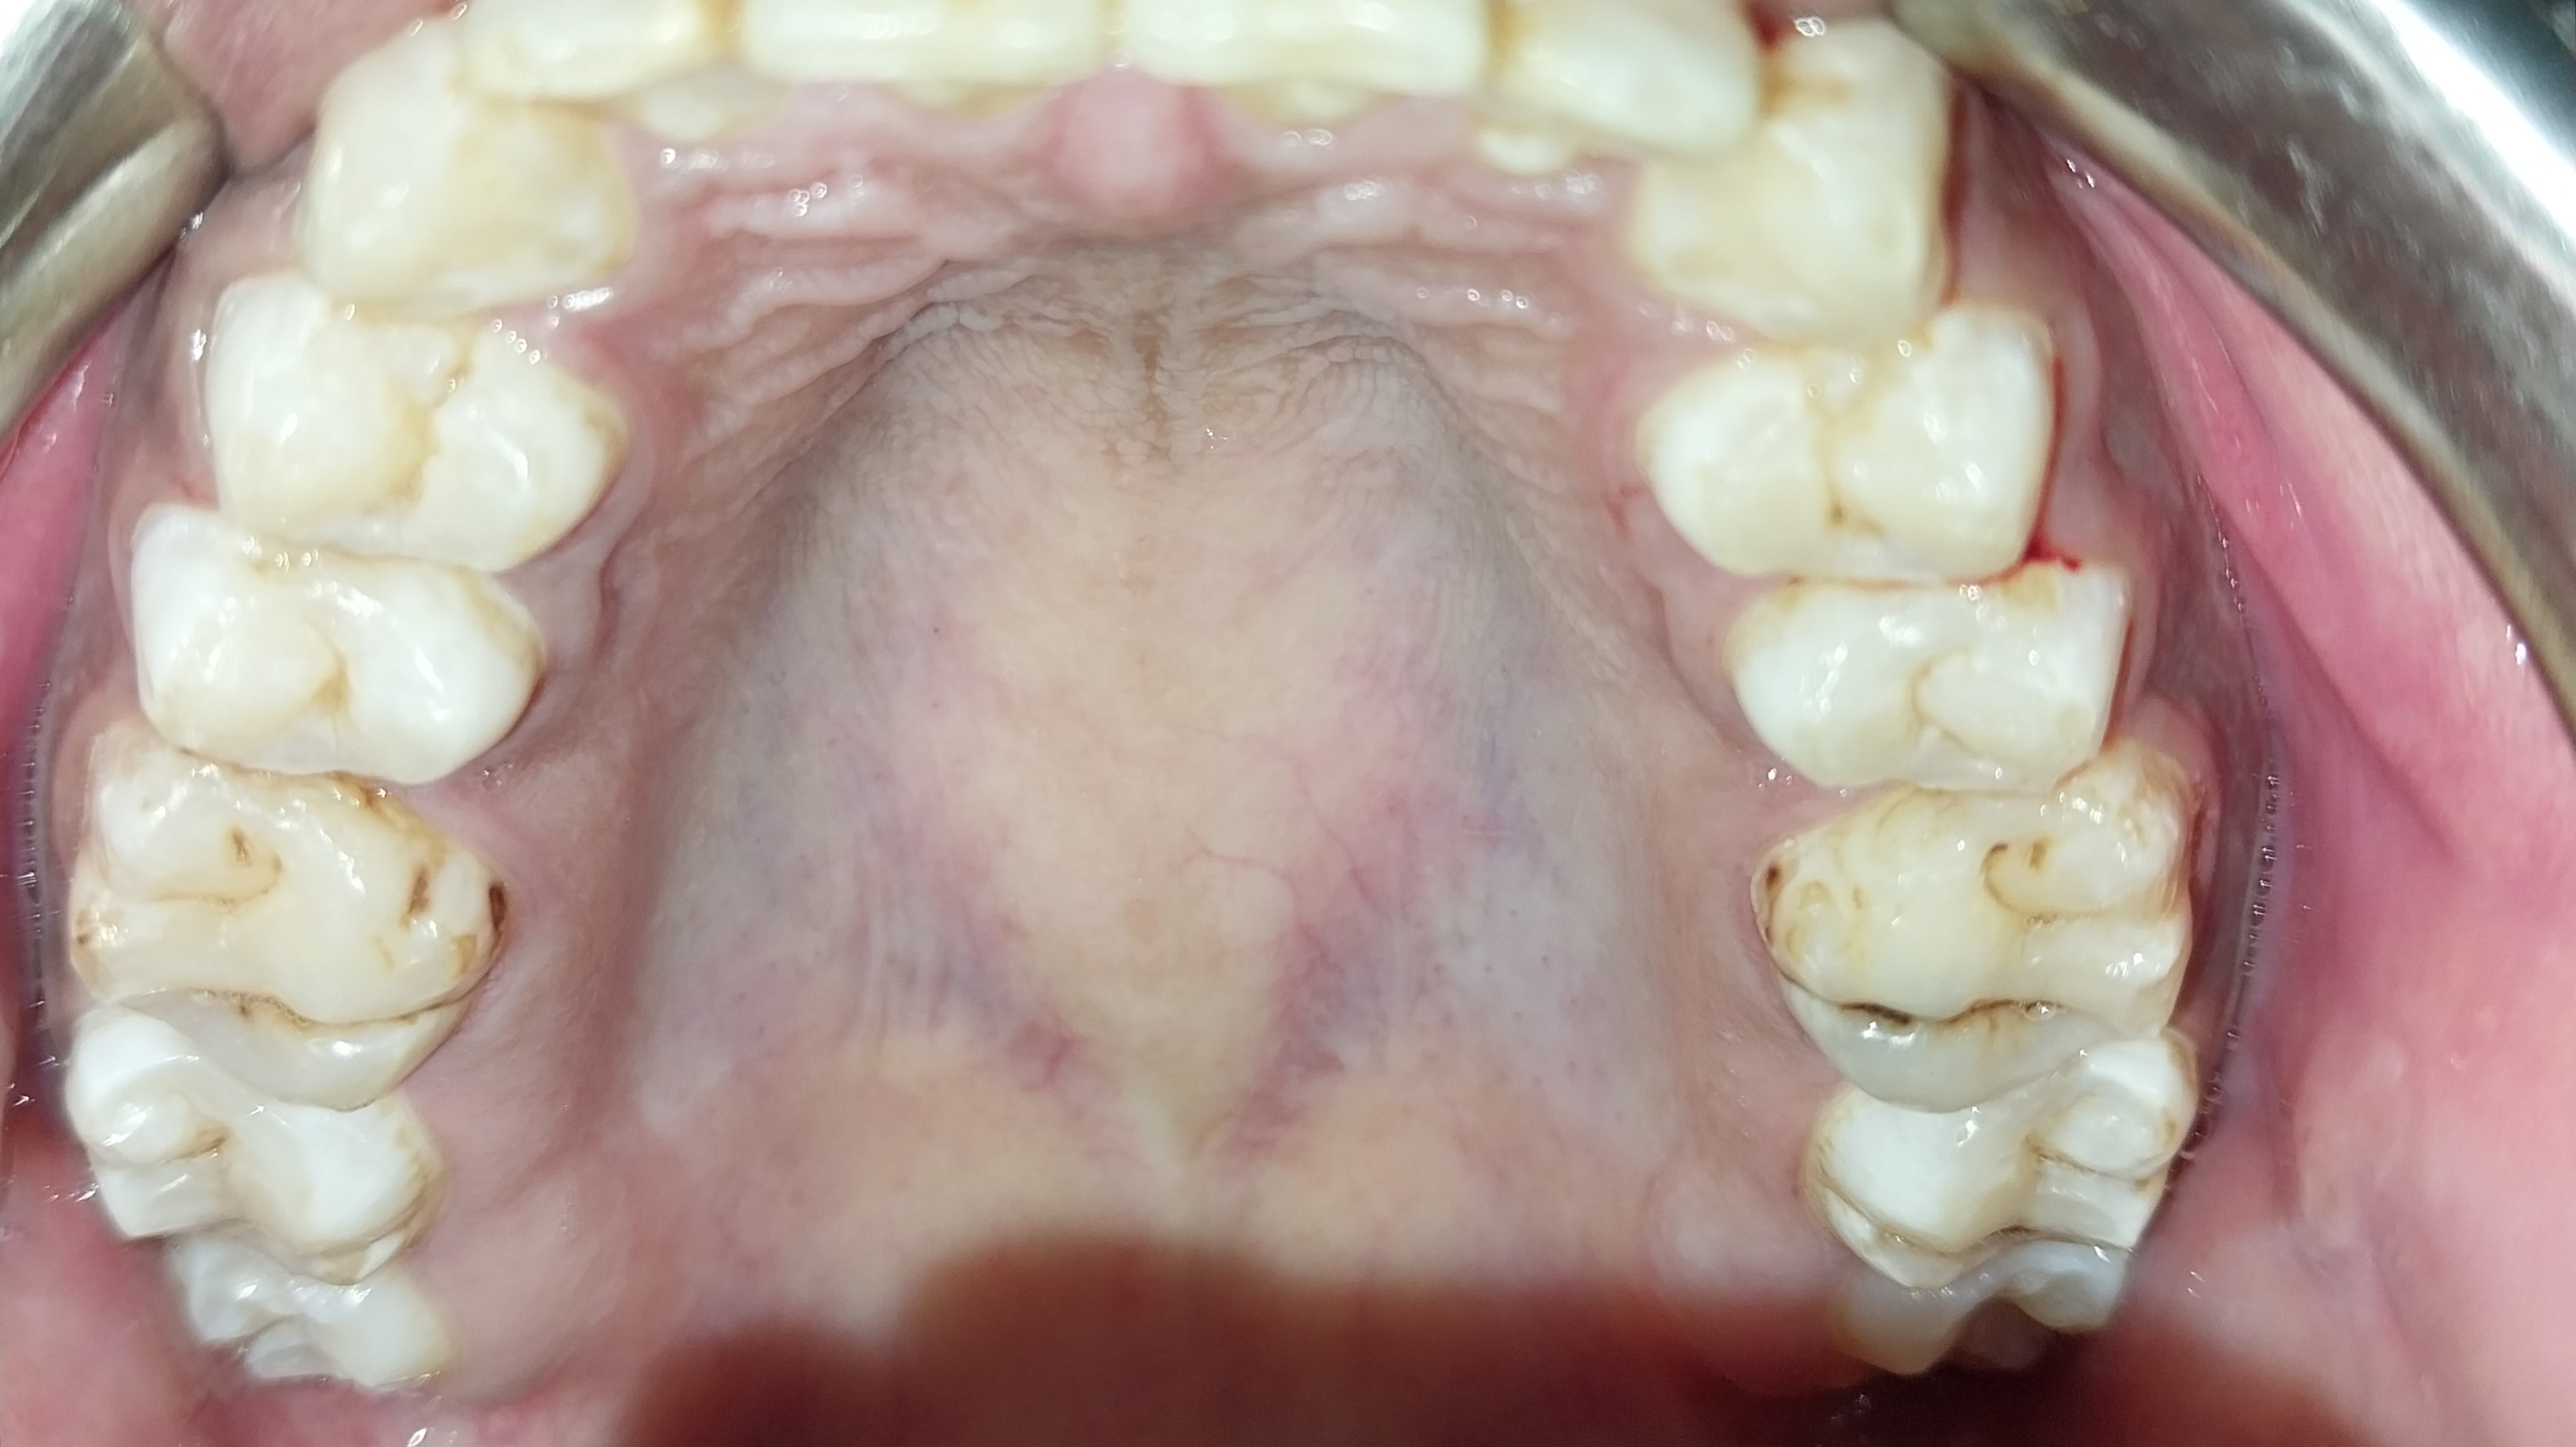D: (1758, 745, 2206, 1110)
